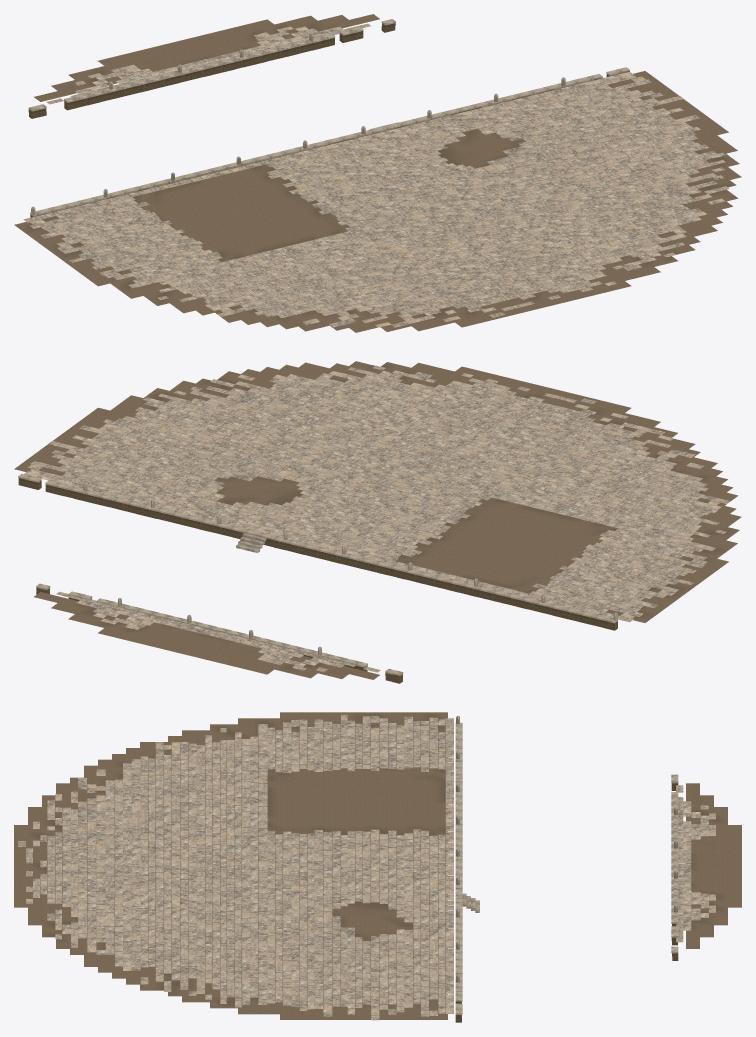
3 views of the same model, one above another, from view 1: azimuth 30°, elevation 25°; view 2: azimuth 150°, elevation 25°; view 3: azimuth 270°, elevation 25° (orthographic).
Parts seen in each view (by area): view 1: slab_a, bed, slab_c, slab_b, coping, block; view 2: slab_a, bed, slab_c, slab_b, coping, block; view 3: slab_a, bed, slab_c, slab_b, coping.
Boxes of the visible parts, x1,y1,x2,y2 form: slab_a: [23, 28, 725, 327]; bed: [14, 14, 741, 332]; slab_c: [30, 23, 725, 327]; slab_b: [41, 26, 729, 324]; coping: [28, 19, 629, 216]; block: [28, 23, 629, 217]; slab_a: [41, 365, 730, 672]; bed: [14, 361, 741, 679]; slab_c: [24, 370, 721, 672]; slab_b: [30, 372, 717, 657]; coping: [18, 474, 618, 675]; block: [18, 478, 617, 683]; slab_a: [26, 714, 715, 1016]; bed: [14, 712, 741, 1019]; slab_c: [26, 717, 715, 1020]; slab_b: [18, 716, 691, 1016]; coping: [455, 715, 678, 1014].
Bounding box in the file's own units: 52.02 × 1.36 × 52.
6 materials, 6 textured.
